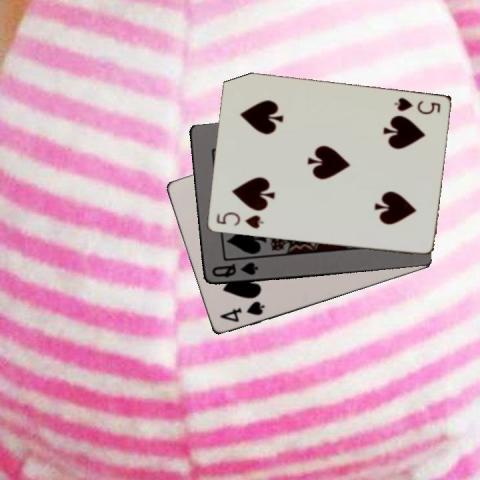4s: (217, 298, 266, 325)
5s: (213, 209, 265, 231), (391, 95, 441, 116)
Qs: (209, 259, 259, 280)
